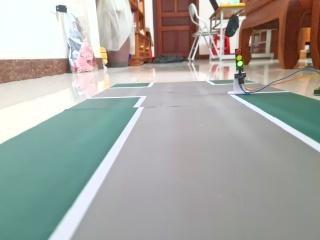green: (230, 45, 249, 72)
